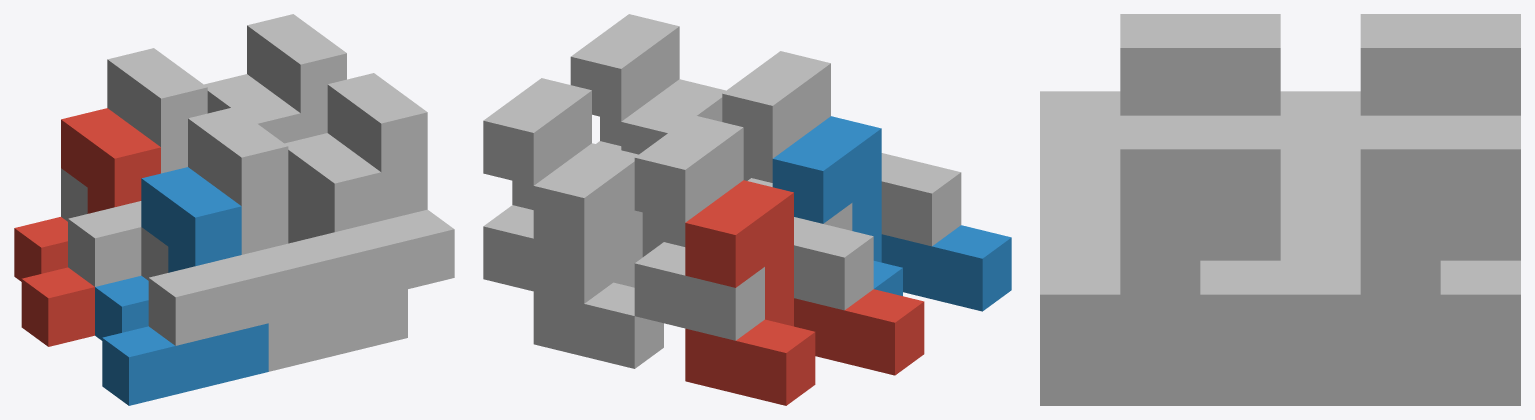
File: tiling.obj
The picture shows the model from 3 angles, left to right: view 1: azimuth 30°, elevation 25°; view 2: azimuth 150°, elevation 25°; view 3: azimuth 270°, elevation 25°; orthographic projection. The views are drawn at different scales.
Visible parts, largest first — view 1: copy_1_domain_4, copy_1_domain_8, copy_1_domain_2, copy_1_domain_1, copy_1_domain_6, copy_1_domain_3, copy_1_domain_7, copy_1_domain_5; view 2: copy_1_domain_1, copy_1_domain_3, copy_1_domain_2, copy_1_domain_7, copy_1_domain_5, copy_1_domain_4, copy_1_domain_8, copy_1_domain_6; view 3: copy_1_domain_7, copy_1_domain_8, copy_1_domain_3, copy_1_domain_4, copy_1_domain_5, copy_1_domain_6.
Part boxes in pixels (bbox=[...]): copy_1_domain_4: bbox=[141, 107, 314, 345]; copy_1_domain_8: bbox=[288, 73, 454, 311]; copy_1_domain_2: bbox=[95, 167, 268, 405]; copy_1_domain_1: bbox=[14, 108, 160, 346]; copy_1_domain_6: bbox=[268, 133, 407, 371]; copy_1_domain_3: bbox=[61, 48, 207, 286]; copy_1_domain_7: bbox=[247, 14, 346, 139]; copy_1_domain_5: bbox=[204, 74, 300, 143]; copy_1_domain_1: bbox=[685, 180, 924, 405]; copy_1_domain_3: bbox=[634, 115, 873, 340]; copy_1_domain_2: bbox=[772, 116, 1011, 311]; copy_1_domain_7: bbox=[483, 78, 663, 303]; copy_1_domain_5: bbox=[533, 143, 663, 368]; copy_1_domain_4: bbox=[722, 51, 961, 246]; copy_1_domain_8: bbox=[570, 14, 751, 180]; copy_1_domain_6: bbox=[621, 79, 725, 154]; copy_1_domain_7: bbox=[1280, 115, 1520, 367]; copy_1_domain_8: bbox=[1040, 115, 1280, 367]; copy_1_domain_3: bbox=[1280, 14, 1520, 192]; copy_1_domain_4: bbox=[1040, 14, 1280, 192]; copy_1_domain_5: bbox=[1280, 222, 1520, 405]; copy_1_domain_6: bbox=[1040, 222, 1280, 405].
Bounding box in the file's own units: 7 × 4 × 6.
